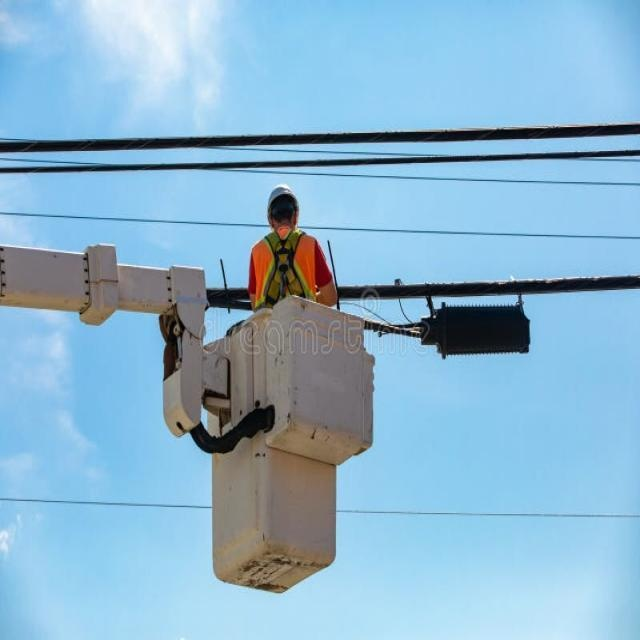Arnes_seguridad: (255, 230, 312, 308)
